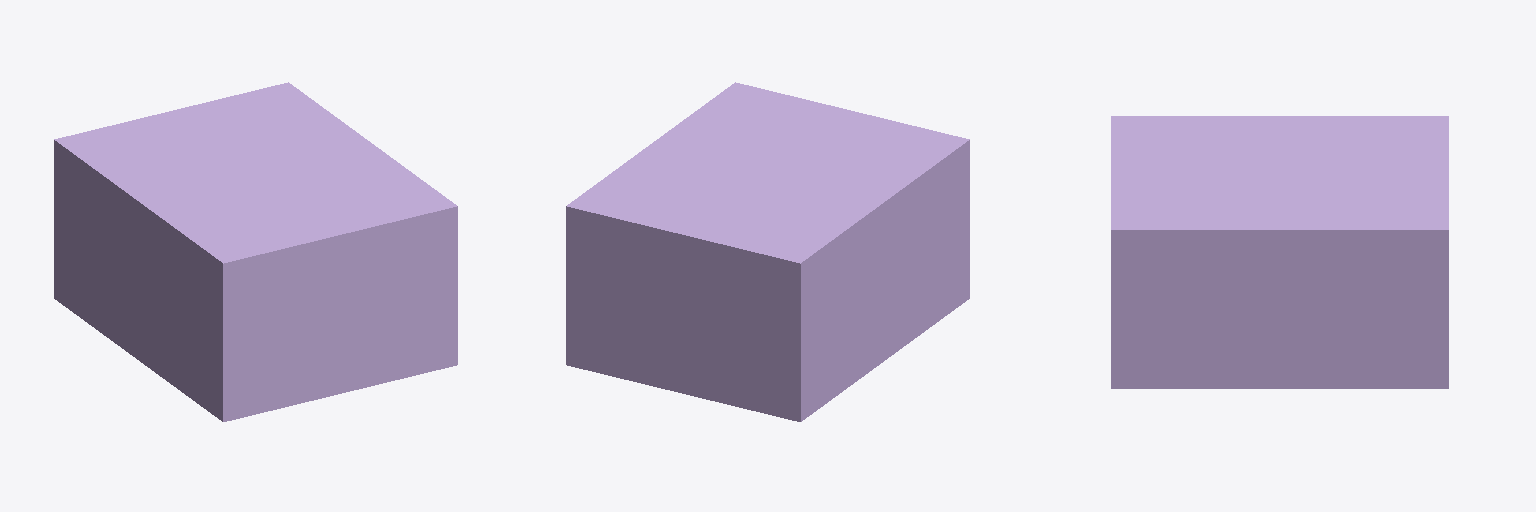
File: tinker.obj
The picture shows the model from 3 angles: view 1: azimuth 30°, elevation 25°; view 2: azimuth 150°, elevation 25°; view 3: azimuth 270°, elevation 25°; orthographic projection.
Parts seen in each view (by area): view 1: obj_0; view 2: obj_0; view 3: obj_0.
Boxes of the visible parts, x1,y1,x2,y2 form: obj_0: [54, 82, 457, 421]; obj_0: [566, 82, 969, 421]; obj_0: [1111, 116, 1448, 388].
Size of the model in its own units: 68 by 46 by 85.